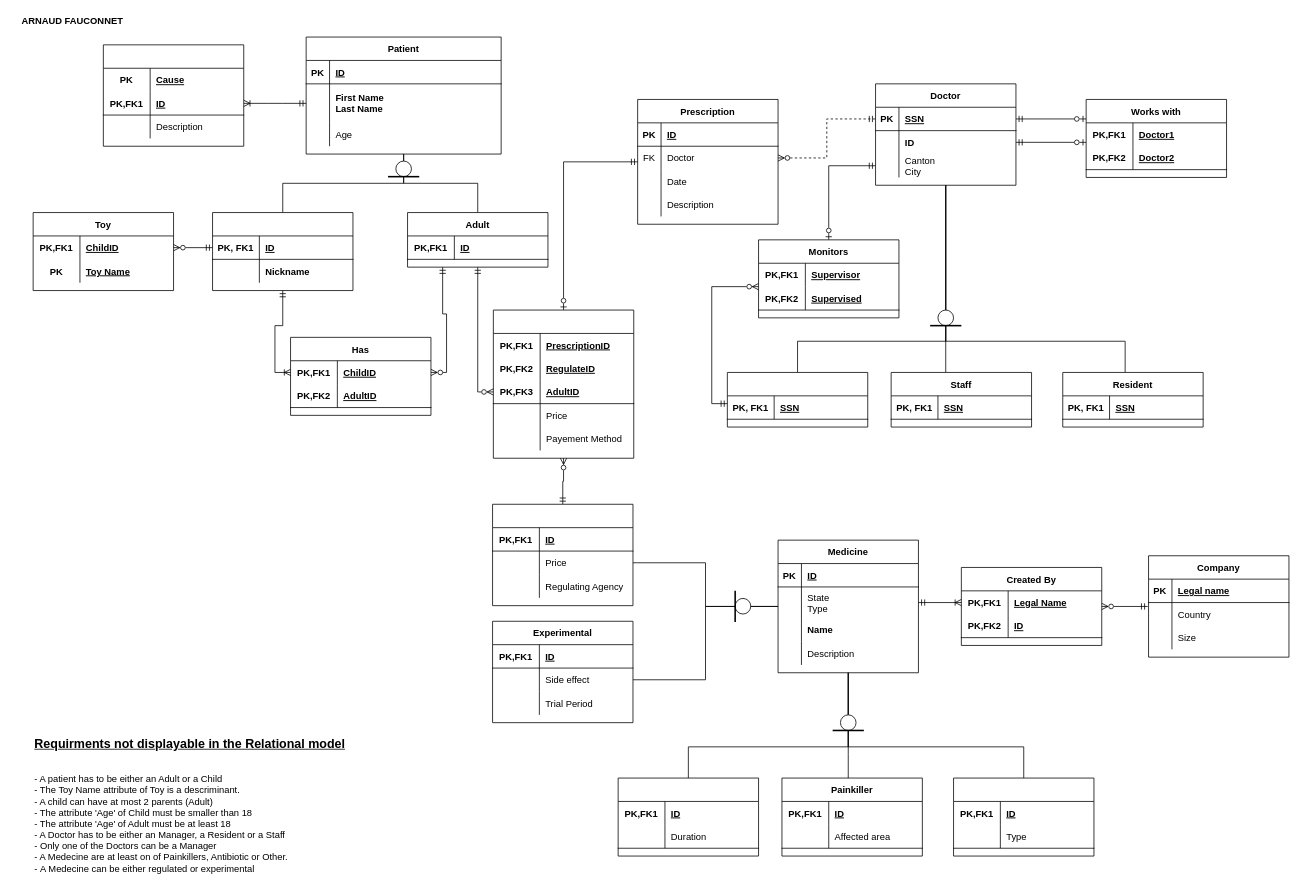
This 1303x888 diagram has some shape labels left out. The shapes that lost their labels are listed below. From the top down, each one's box as (x1, y1, x2, y2) in pixels, then its label:
(103, 44, 244, 146): Symptom
(212, 212, 353, 291): Child
(493, 309, 634, 458): Buy
(727, 372, 868, 427): Manager
(492, 503, 633, 606): Regulated
(617, 777, 759, 856): Antibiotic
(953, 777, 1094, 856): Other
